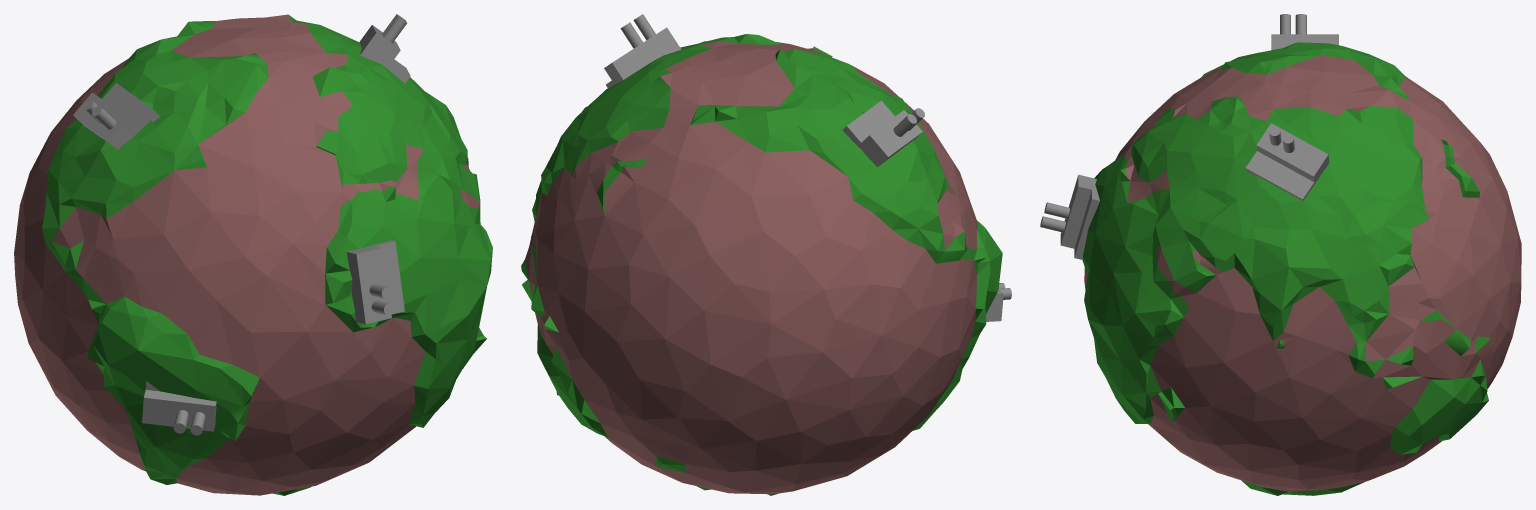
Rendered from earth3.gltf.
3 renders of one model, left to right at view 1: azimuth 30°, elevation 25°; view 2: azimuth 150°, elevation 25°; view 3: azimuth 270°, elevation 25°, orthographic. The views are drawn at different scales.
Visible parts, largest first — view 1: Icosphere001, Cube (×4); view 2: Icosphere001, Cube (×3); view 3: Icosphere001, Cube (×3).
Part boxes in pixels (x1=…): Icosphere001: x1=14, y1=14, x2=492, y2=495; Cube (×4): x1=73, y1=14, x2=410, y2=435; Icosphere001: x1=521, y1=34, x2=1002, y2=495; Cube (×3): x1=604, y1=14, x2=1011, y2=321; Icosphere001: x1=1082, y1=42, x2=1521, y2=495; Cube (×3): x1=1040, y1=14, x2=1338, y2=259.
Size of the model in its own units: 10.06 by 10.28 by 10.94.
